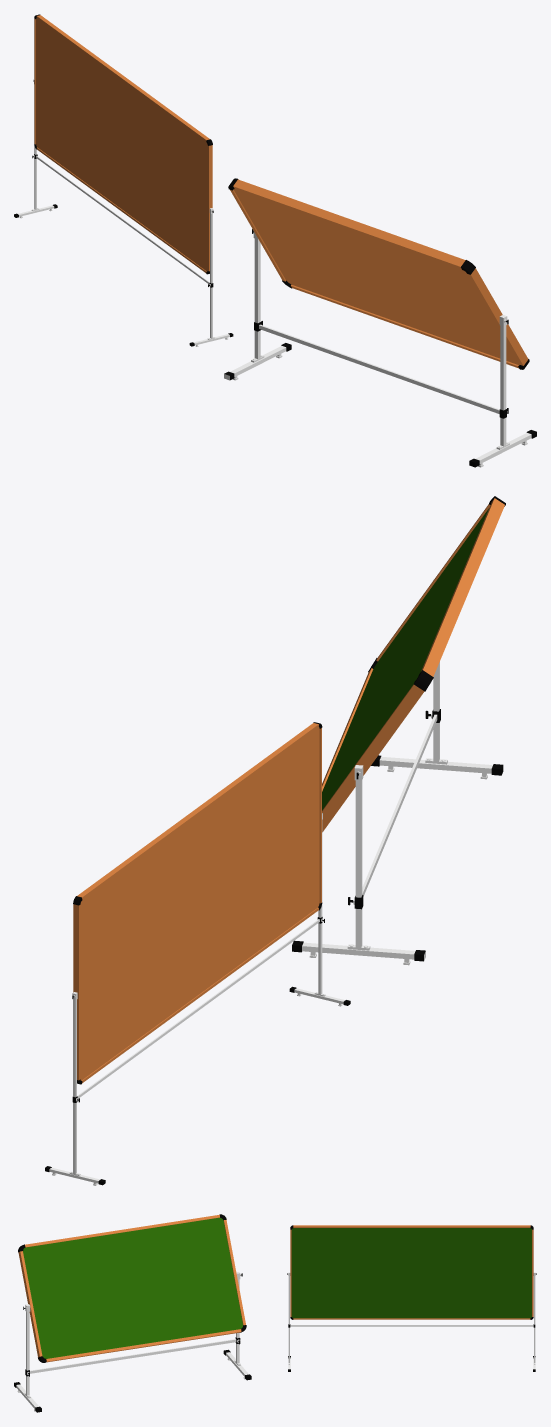
Rendered from Pizarron con texturas.fbx.
The picture shows the model from 3 angles, top to bottom: view 1: azimuth 30°, elevation 25°; view 2: azimuth 150°, elevation 25°; view 3: azimuth 270°, elevation 25°; orthographic projection. The views are drawn at different scales.
Visible parts, largest first — view 1: 02.003, 01; view 2: 01, 02.003; view 3: 02.003, 01.
Boxes of the visible parts, bbox=[...] form: 02.003: bbox=[224, 178, 536, 467]; 01: bbox=[14, 14, 233, 346]; 01: bbox=[45, 722, 350, 1185]; 02.003: bbox=[292, 496, 505, 965]; 02.003: bbox=[14, 1214, 251, 1412]; 01: bbox=[287, 1225, 536, 1371].
Size of the model in its own units: 198 by 223 by 733.
